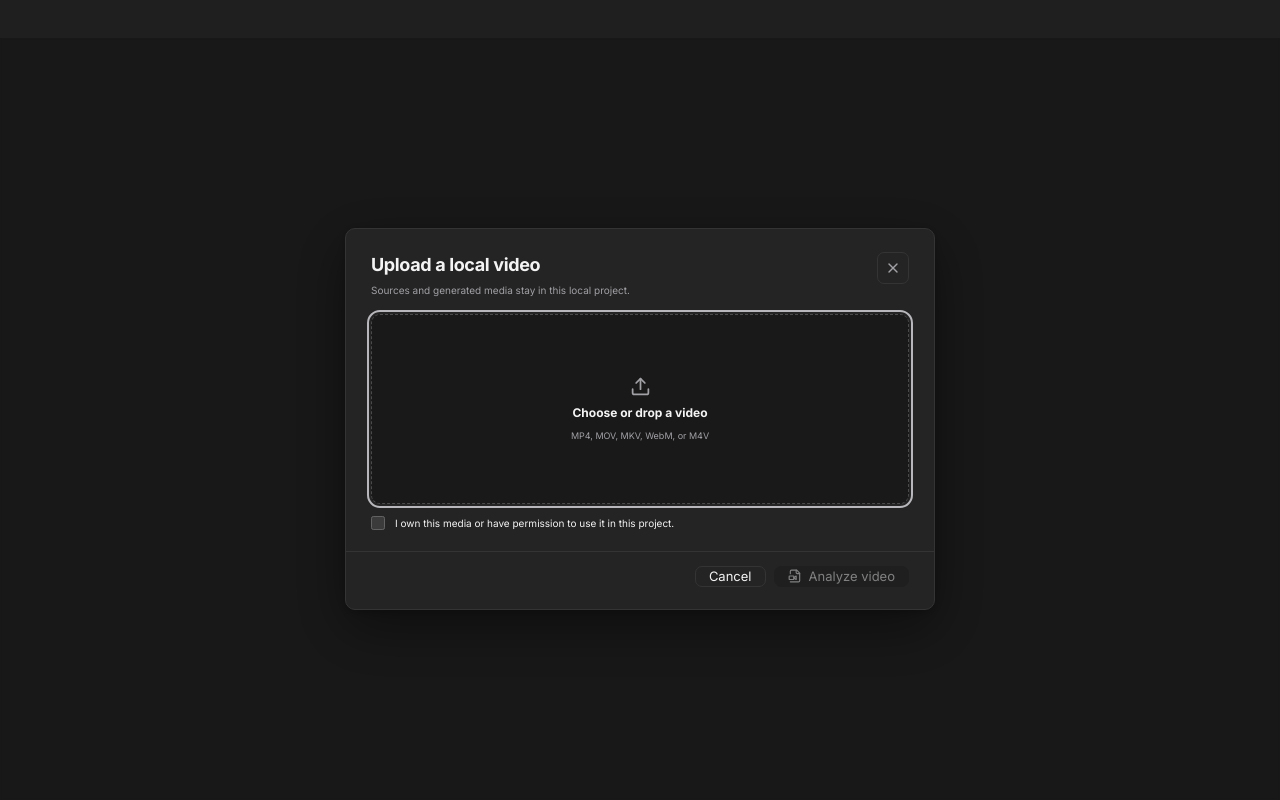
VideoIntakeDialog › requires a fresh rights confirmation when the local video changes
The width and height of the screenshot is (1280, 800).
Click the button with aria-label "Choose a local video". click: (640, 409)
box: [371,314,909,504]
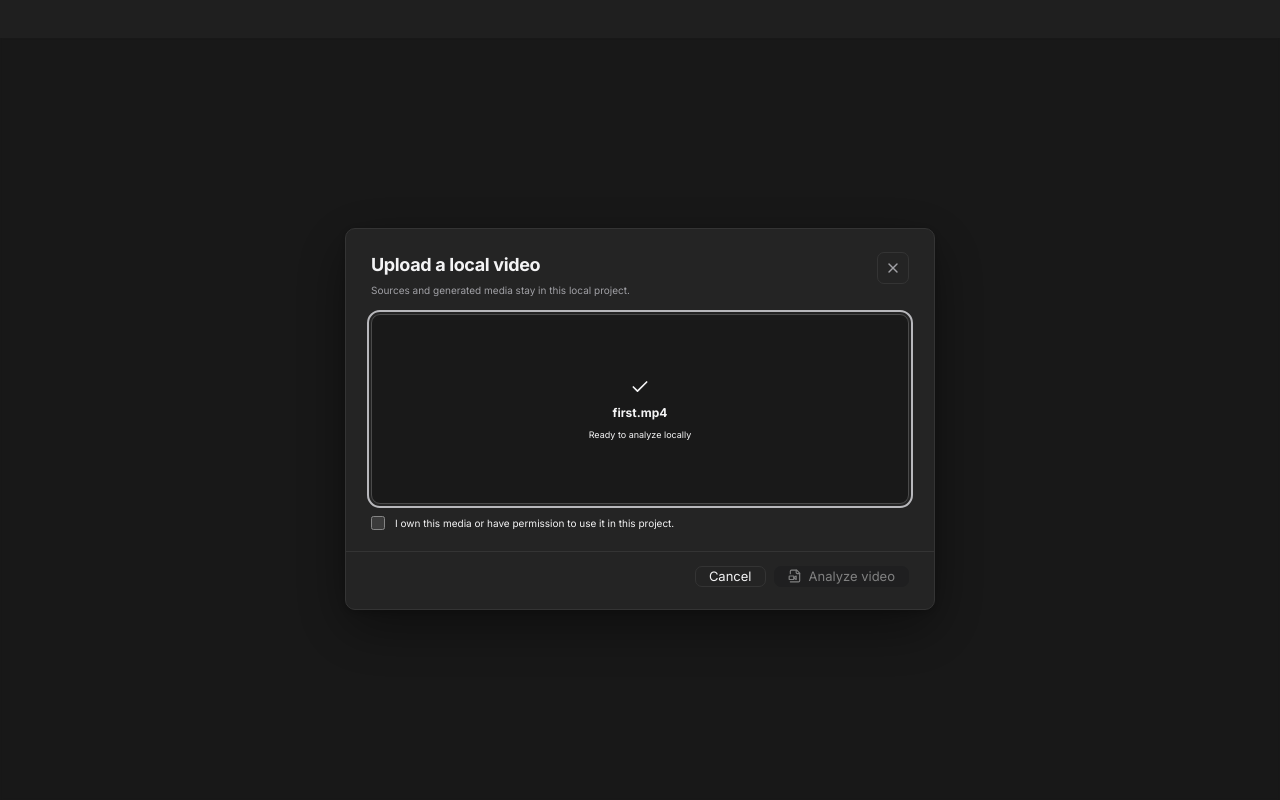
Check: the text "first.mp4" is shown, box [613,404,667,421]
Click the checkbox labelled "own this media or have permission". click: (378, 523)
box: [371,516,385,530]
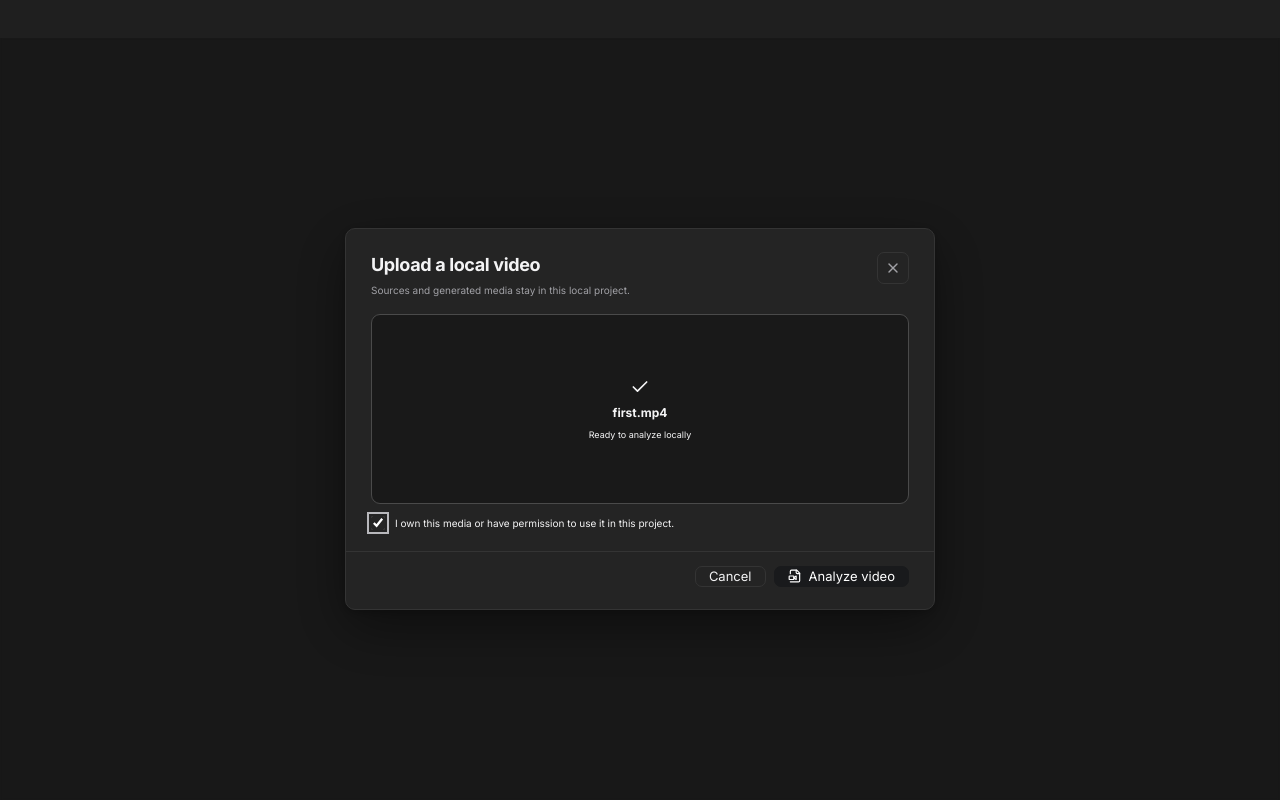
Check: the checkbox labelled "own this media or have permission" is checked, box [371,516,385,530]
Click the button with aria-label "Choose a local video". click: (640, 409)
box: [371,314,909,504]
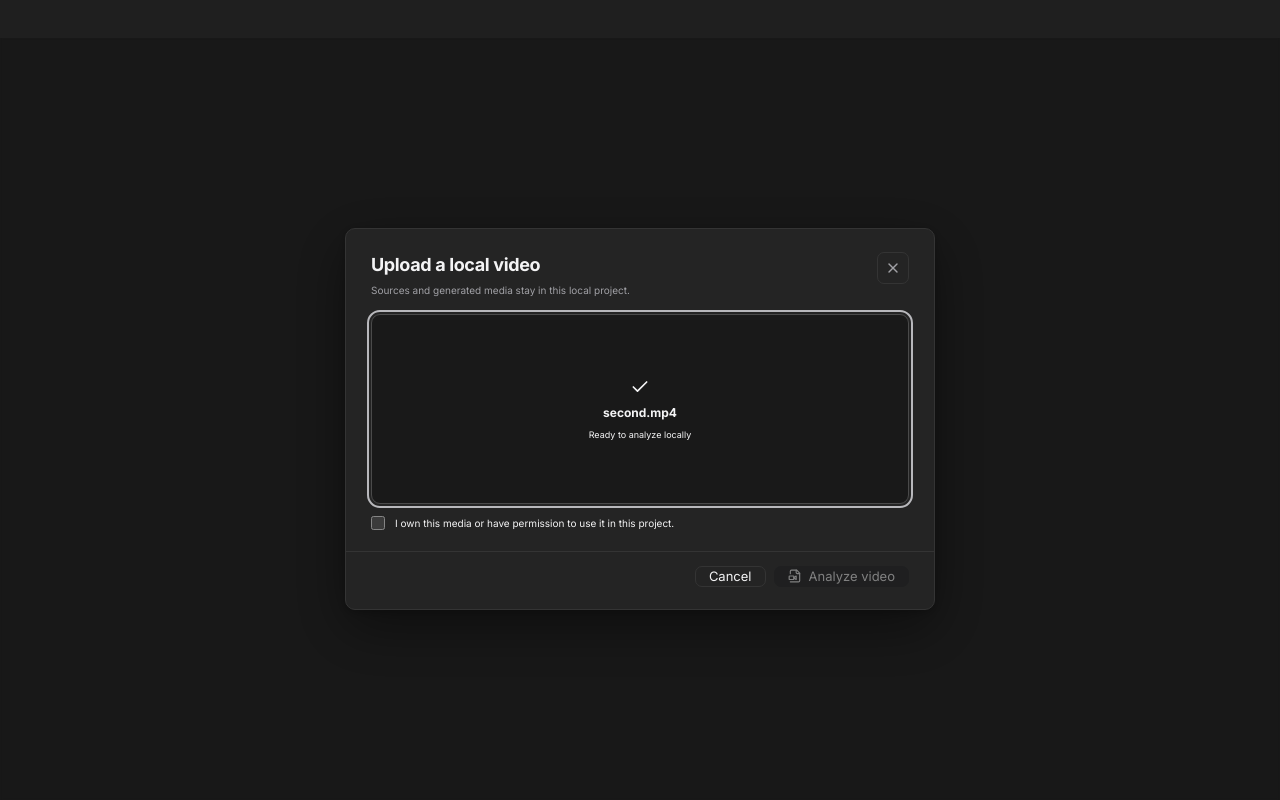
Check: the checkbox labelled "own this media or have permission" is not checked, box [371,516,385,530]
Check: the text "second.mp4" is shown, box [603,404,677,421]
